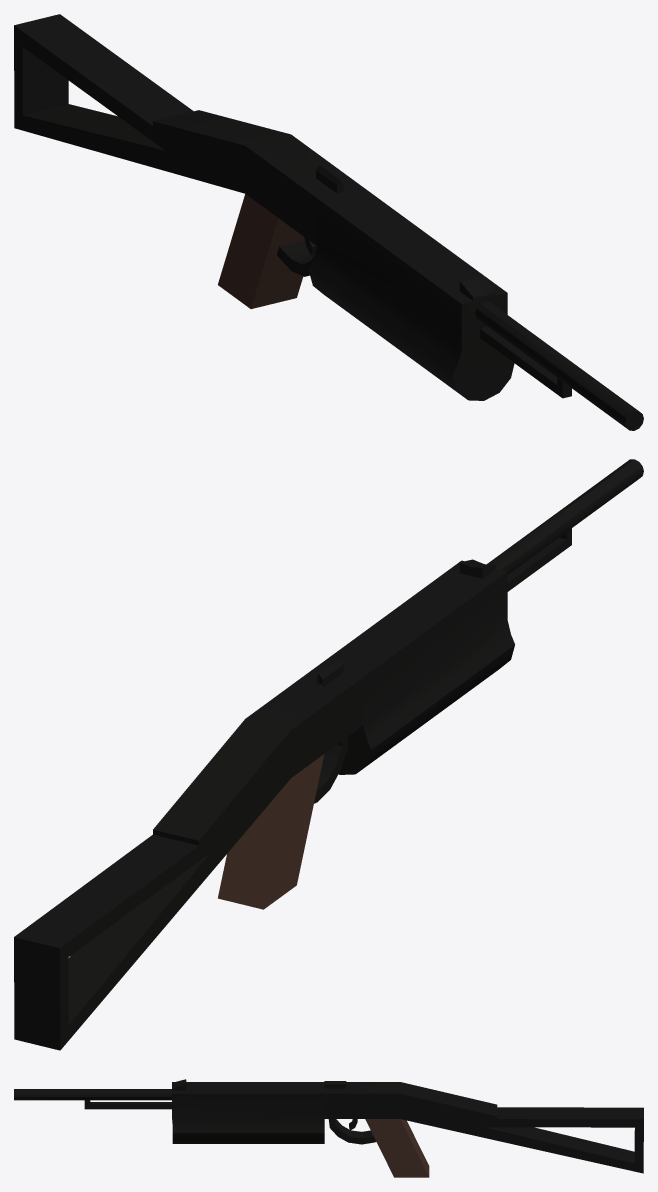
The model's file is Gun.fbx.
3 renders of one model, top to bottom at view 1: azimuth 30°, elevation 25°; view 2: azimuth 150°, elevation 25°; view 3: azimuth 270°, elevation 25°, orthographic. The views are drawn at different scales.
Visible parts, largest first — view 1: Gun; view 2: Gun; view 3: Gun.
Part boxes in pixels (left/top/right/bottom): Gun: left=14, top=14, right=643, bottom=430; Gun: left=14, top=459, right=643, bottom=1050; Gun: left=14, top=1079, right=643, bottom=1177.
Bounding box in the file's own units: 52.73 × 139 × 873.
